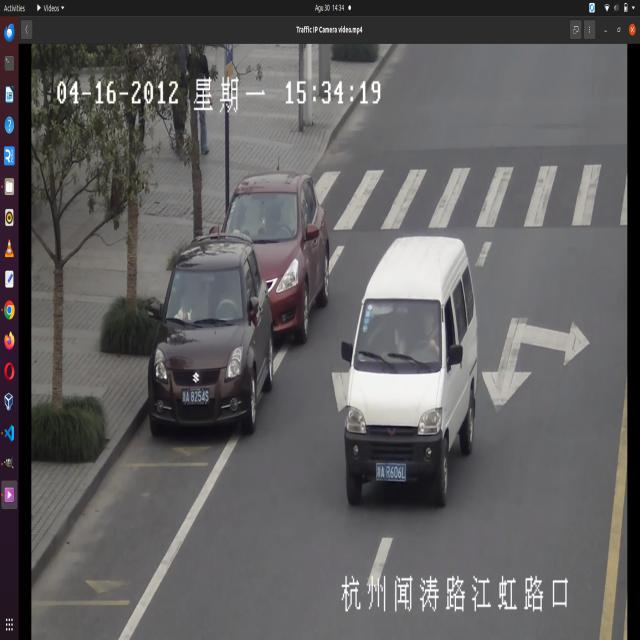person_with_seatbelt: (410, 306, 444, 363)
